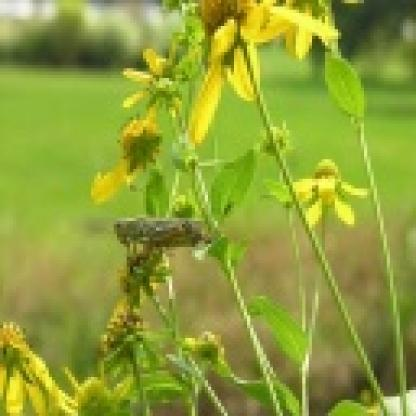grasshopper: (107, 211, 222, 261)
